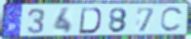3: (26, 7, 47, 35)
4: (52, 6, 75, 36)
7: (135, 7, 156, 33)
8: (108, 7, 128, 33)
C: (159, 6, 185, 33)
D: (78, 7, 103, 35)
